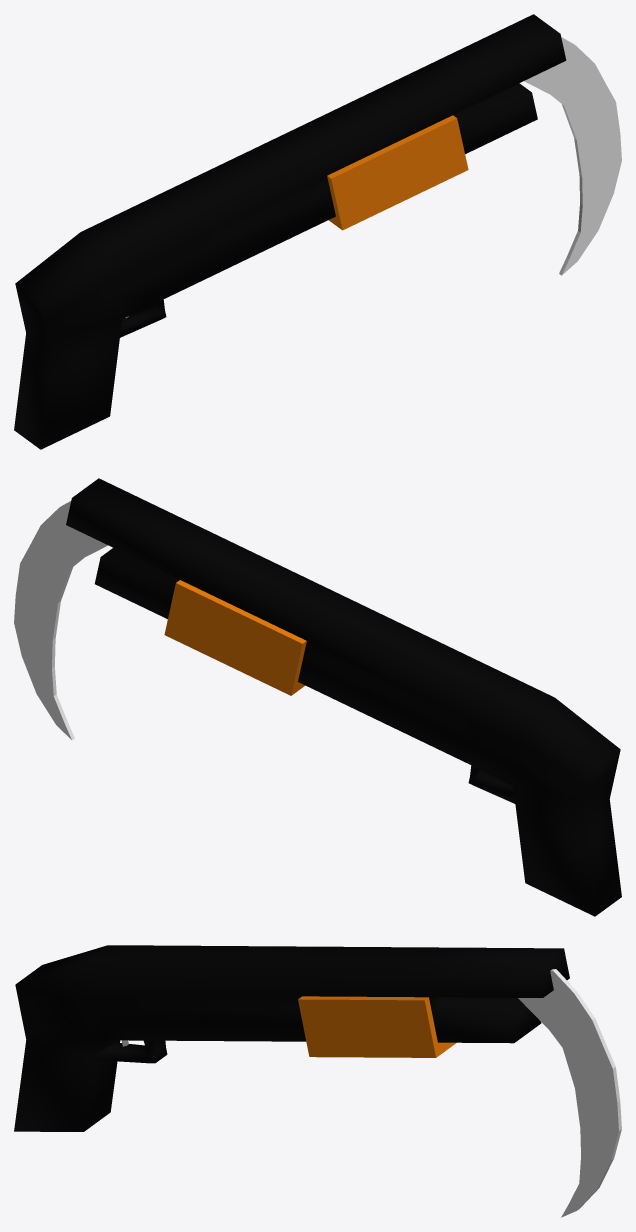
File: shotgun scythe.fbx
3 renders of one model, top to bottom at view 1: azimuth 30°, elevation 25°; view 2: azimuth 150°, elevation 25°; view 3: azimuth 330°, elevation 25°, orthographic.
Visible parts, largest first — view 1: shotgun02, Plane.001, recharge02; view 2: shotgun02, Plane.001, recharge02; view 3: shotgun02, Plane.001, recharge02.
Boxes of the visible parts, <box> form: shotgun02: <box>14,14,566,449</box>; Plane.001: <box>524,37,621,275</box>; recharge02: <box>327,115,468,230</box>; shotgun02: <box>66,478,621,916</box>; Plane.001: <box>14,501,107,740</box>; recharge02: <box>164,580,306,695</box>; shotgun02: <box>14,945,569,1131</box>; Plane.001: <box>518,969,621,1217</box>; recharge02: <box>298,996,456,1057</box>.
Size of the model in its own units: 74.07 by 34.63 by 7.63.
